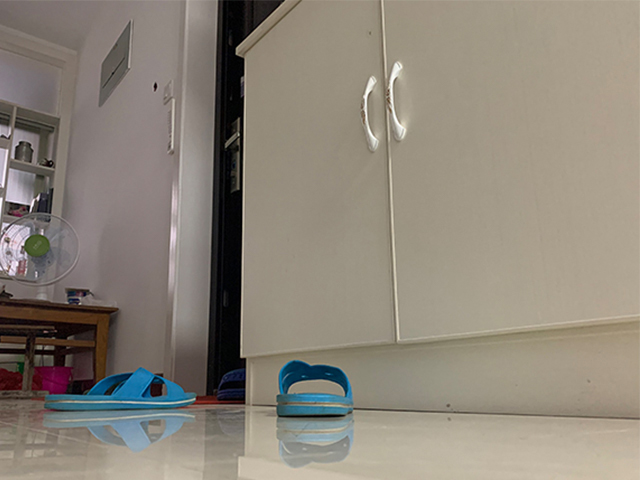cabinet: (237, 1, 640, 418)
carpet: (195, 392, 245, 406)
slippers: (44, 365, 198, 411), (276, 358, 356, 418), (214, 366, 246, 402)
table: (1, 295, 119, 393)
